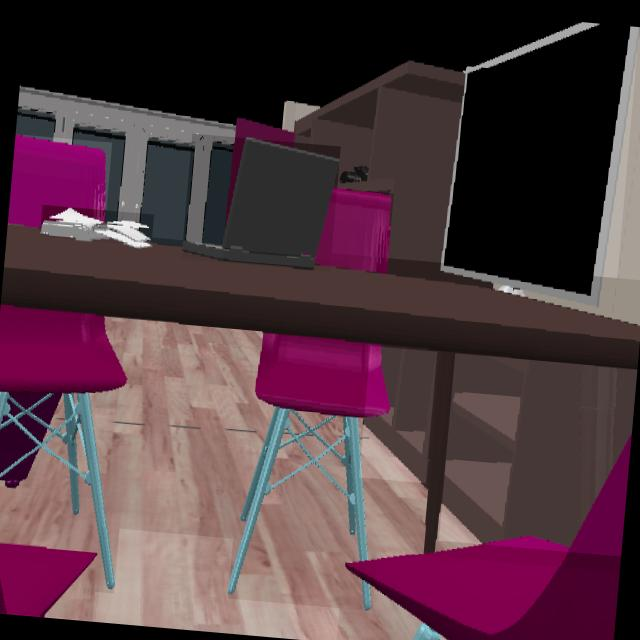book: (40, 207, 151, 245)
bookshelf: (294, 60, 465, 281), (441, 356, 631, 547), (364, 346, 436, 486)
chair: (344, 434, 630, 640), (228, 333, 389, 597), (0, 304, 127, 592), (7, 134, 106, 230), (0, 544, 98, 616), (315, 188, 392, 275)
laptop: (182, 138, 339, 270)
monitor: (441, 22, 639, 307)
table: (0, 225, 640, 555), (294, 61, 492, 289), (441, 354, 637, 549), (363, 347, 436, 482)
